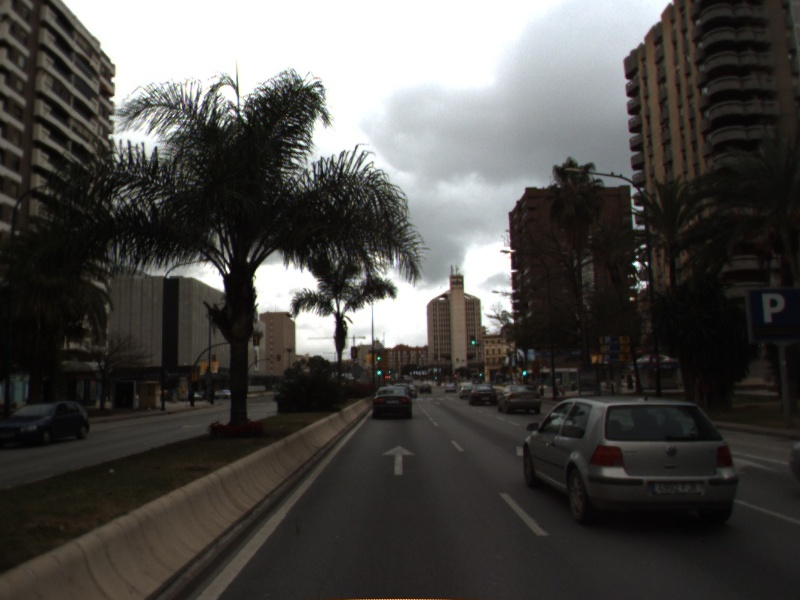STRAIGHT: (379, 443, 418, 477)
